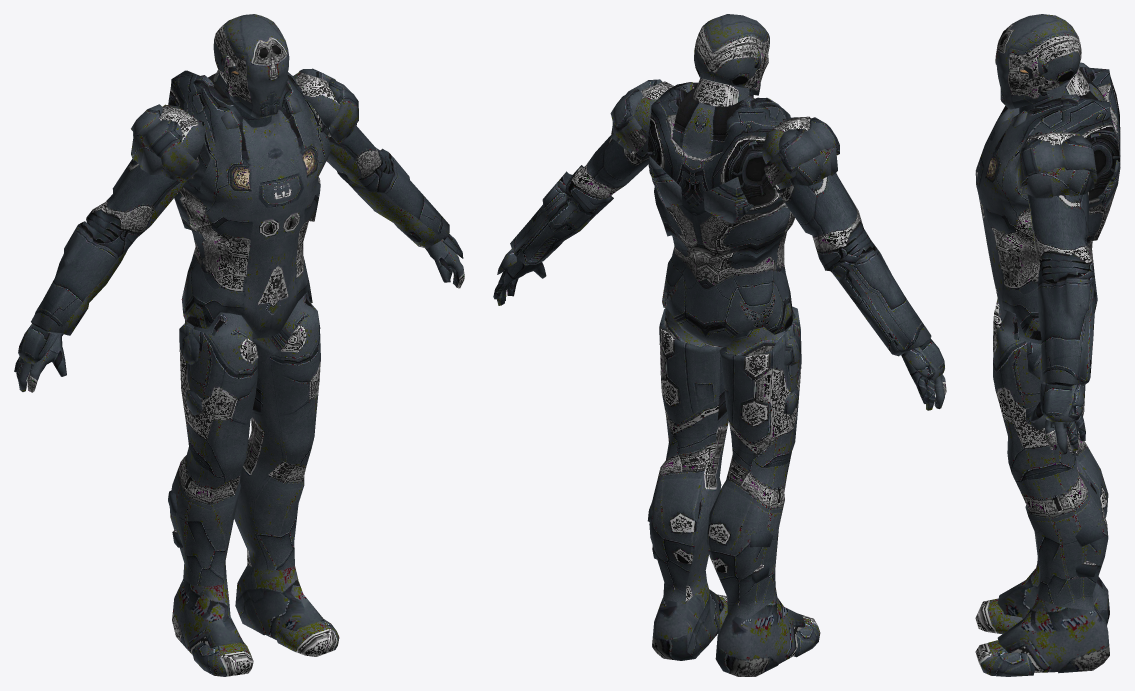
File: armor_war_machine.glb
The picture shows the model from 3 angles, left to right: view 1: azimuth 30°, elevation 25°; view 2: azimuth 150°, elevation 25°; view 3: azimuth 270°, elevation 25°; orthographic projection.
Parts seen in each view (by area): view 1: armor_war_machine; view 2: armor_war_machine; view 3: armor_war_machine.
Part boxes in pixels (left/top/right/bottom): armor_war_machine: left=14, top=14, right=464, bottom=676; armor_war_machine: left=493, top=14, right=946, bottom=676; armor_war_machine: left=975, top=14, right=1120, bottom=676.
Bounding box in the file's own units: 1.41 × 1.9 × 0.3966.
1 material, 1 textured.
